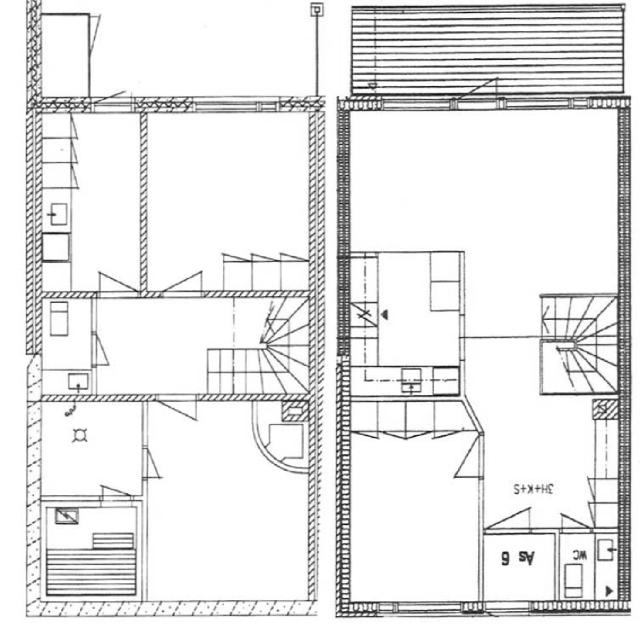door: (450, 70, 504, 116), (482, 500, 542, 540), (153, 270, 212, 310), (149, 389, 204, 431), (88, 266, 139, 310), (456, 436, 492, 498), (94, 86, 141, 126), (89, 479, 137, 512), (137, 444, 171, 486), (79, 12, 110, 56), (86, 331, 114, 372), (552, 512, 588, 540)
window: (365, 597, 467, 618), (473, 592, 539, 622)
zone: (342, 105, 628, 255), (139, 396, 318, 610), (141, 105, 316, 297), (337, 396, 478, 610), (40, 106, 148, 298), (480, 398, 629, 532), (339, 252, 466, 399), (36, 501, 144, 605), (36, 398, 140, 497), (31, 8, 103, 107), (476, 527, 558, 612), (34, 293, 99, 398), (554, 531, 626, 608), (179, 86, 284, 124), (370, 90, 460, 119), (496, 95, 604, 118)
